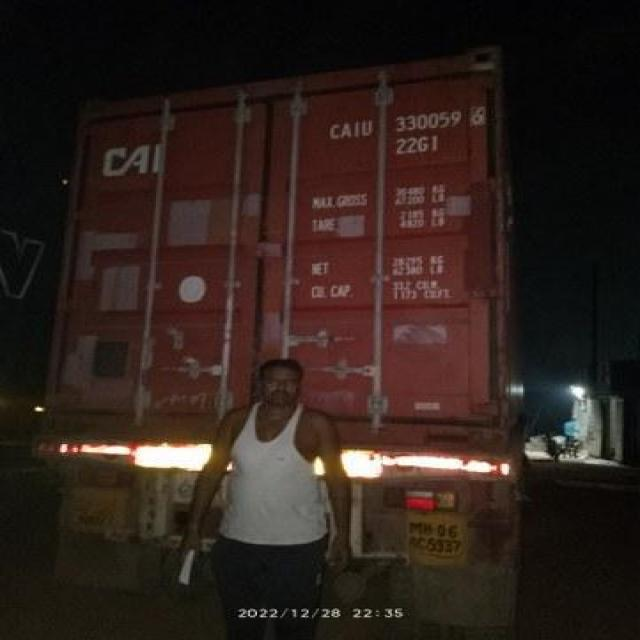ISO: (392, 130, 441, 160)
container_number: (320, 107, 494, 143)
